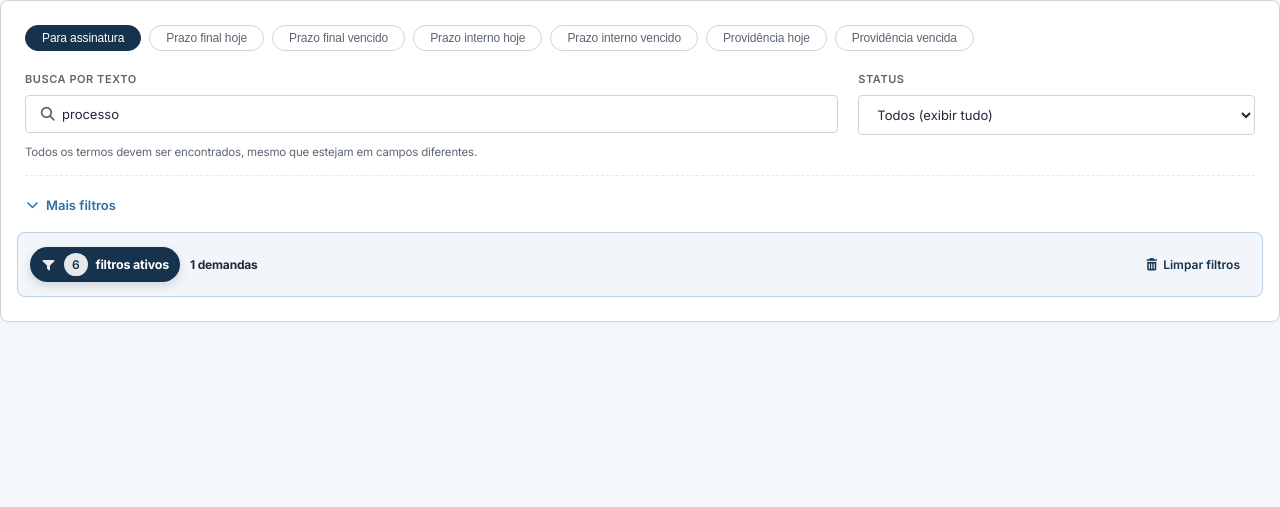
Scenario: ações interativas da interface › expande filtros avançados e limpa todos os filtros ativos
Click the button "Mais filtros". click: (70, 205)
box: x1=17 y1=193 x2=124 y2=217
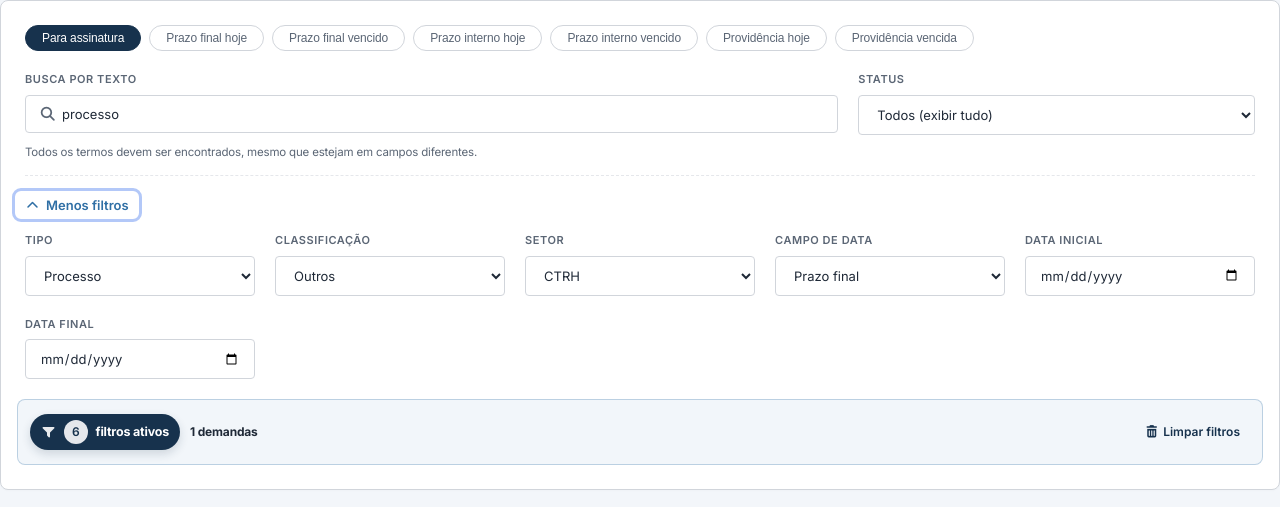
Expected: the button "Menos filtros" is expanded, x1=17 y1=193 x2=137 y2=217
Click the button "Limpar filtros". click: (1192, 432)
box: x1=1134 y1=415 x2=1250 y2=449
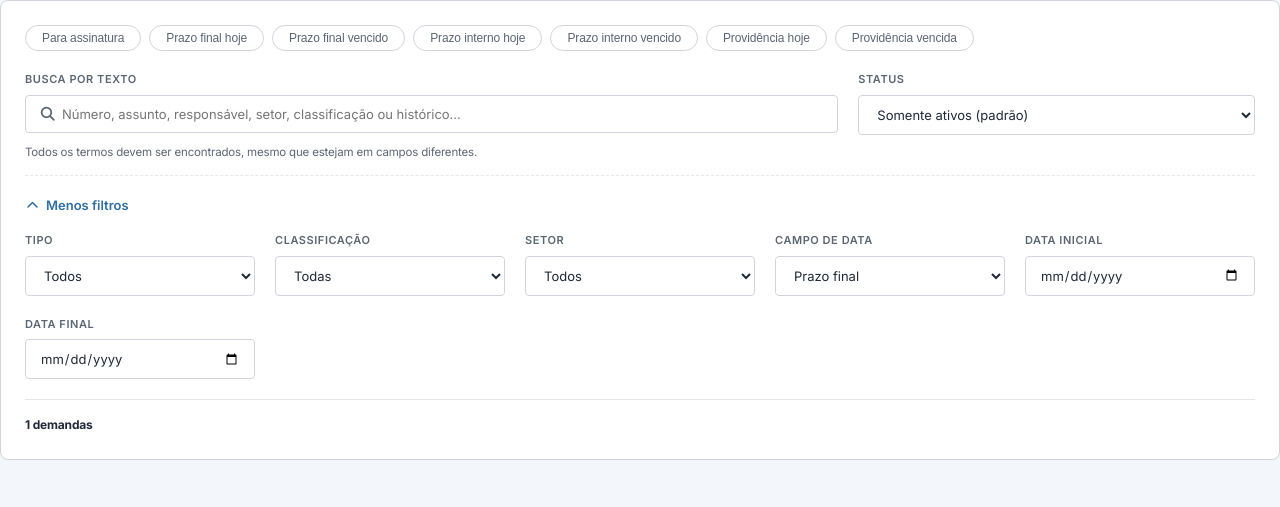
Expected: the dropdown labelled "Busca por texto" is empty, x1=25 y1=95 x2=838 y2=133
Expected: the dropdown labelled "Status" shows "Somente ativos (padrão)", x1=858 y1=95 x2=1255 y2=135
